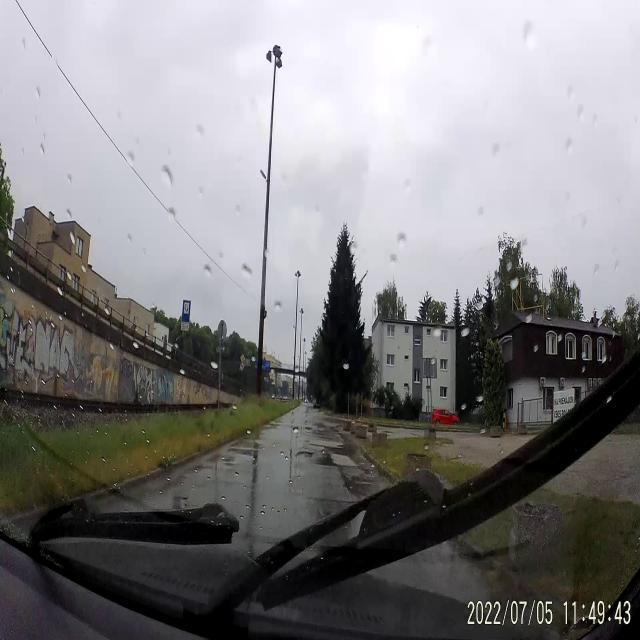Pothole: (298, 450, 312, 460)
